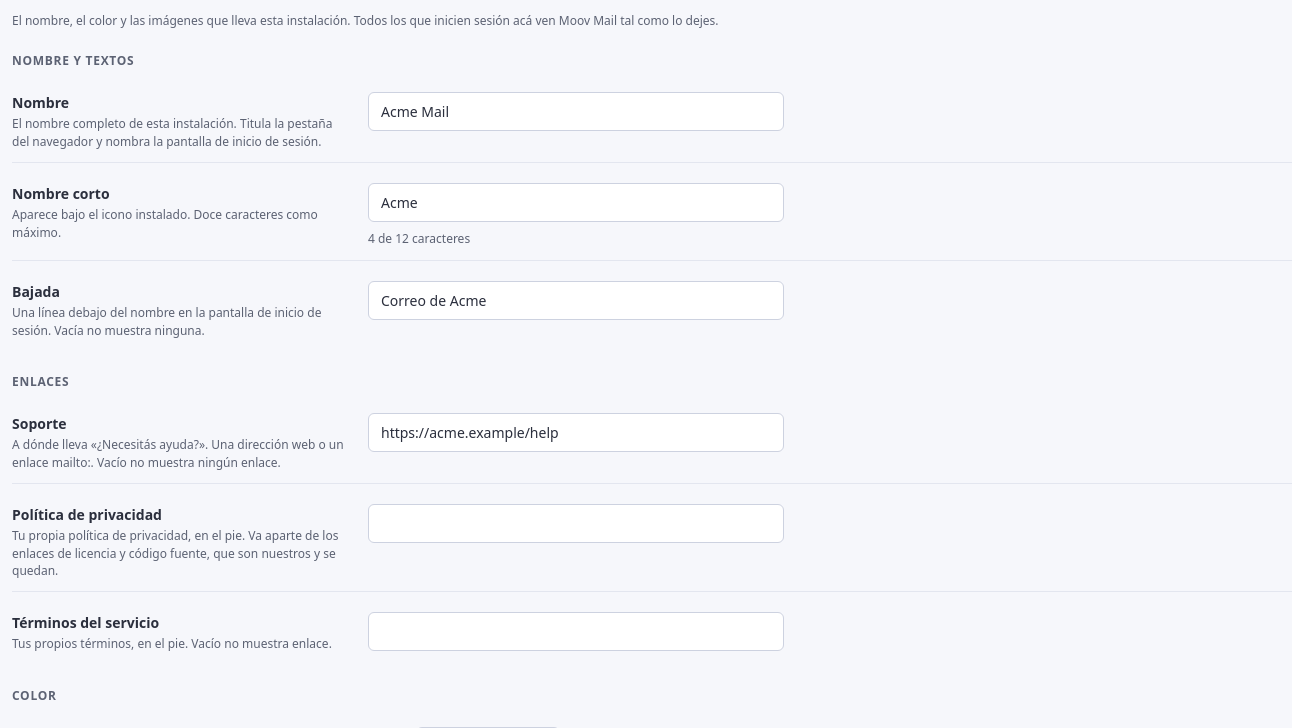
Test: the link fields validate the scheme before the round trip › refuses javascript:alert(1) at the field, with no request
The width and height of the screenshot is (1292, 728).
Replace the text in the field labelled "Soporte" with "javascript:alert(1)" at [576, 433], box [368,413,784,452]
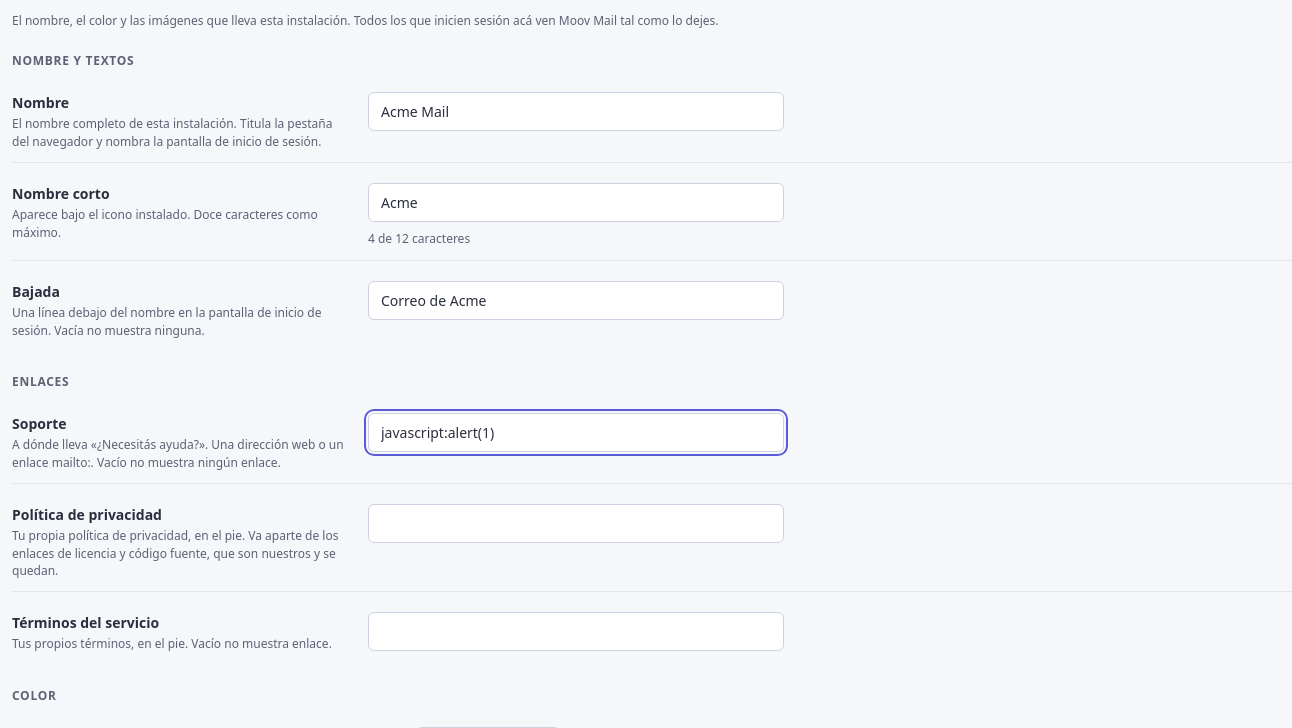
Press Tab
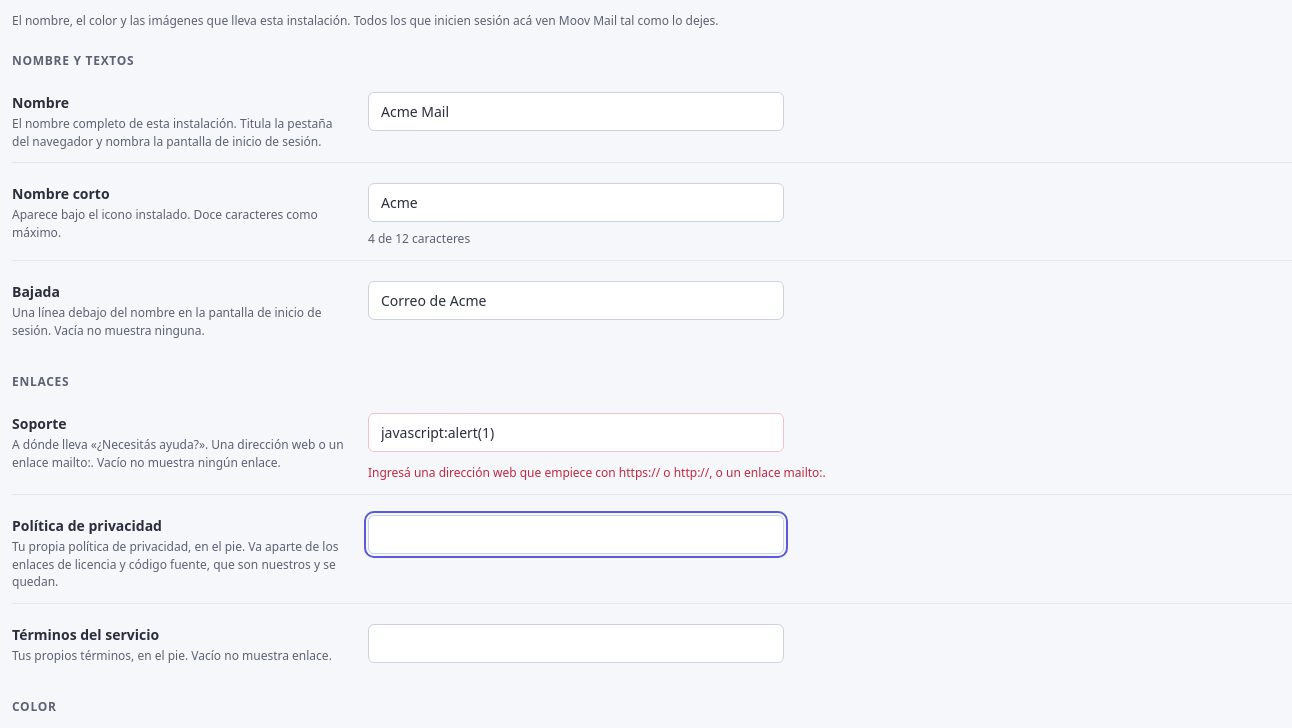
Check: the message shows "https://", box [368,464,826,481]
